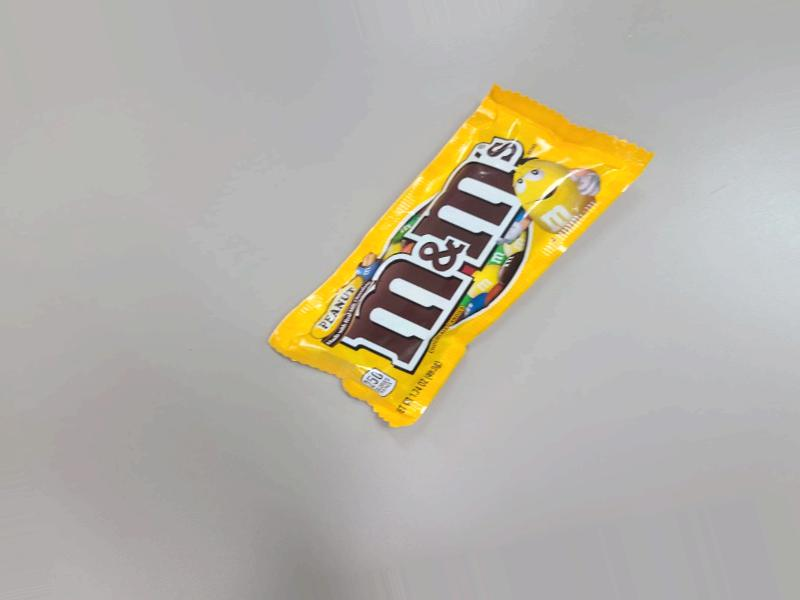m&m: (267, 63, 655, 465)
